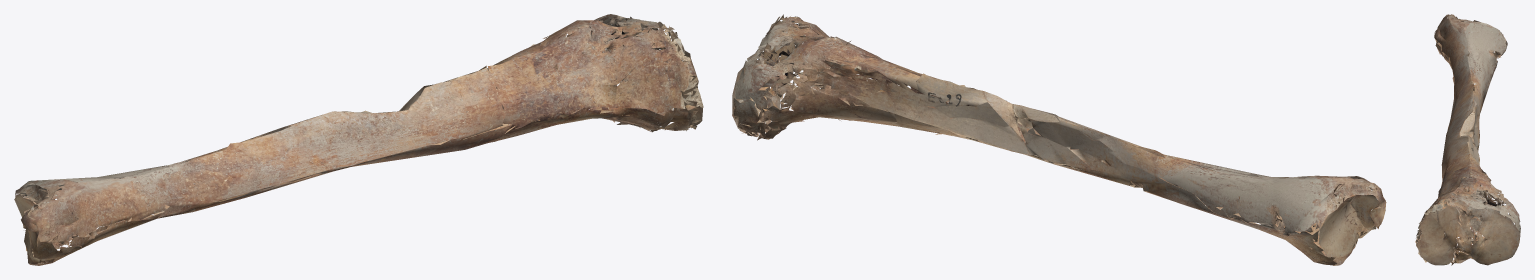
The model's file is bone_tibia.glb.
3 renders of one model, left to right at view 1: azimuth 30°, elevation 25°; view 2: azimuth 150°, elevation 25°; view 3: azimuth 270°, elevation 25°, orthographic. The views are drawn at different scales.
Visible parts, largest first — view 1: Object_2; view 2: Object_2; view 3: Object_2.
Boxes of the visible parts, left/top/right/bottom form: Object_2: left=14, top=14, right=703, bottom=265; Object_2: left=732, top=14, right=1386, bottom=265; Object_2: left=1415, top=14, right=1520, bottom=265.
Size of the model in its own units: 41.16 by 6.53 by 8.62.
Materials: 1 (1 with a texture image).
